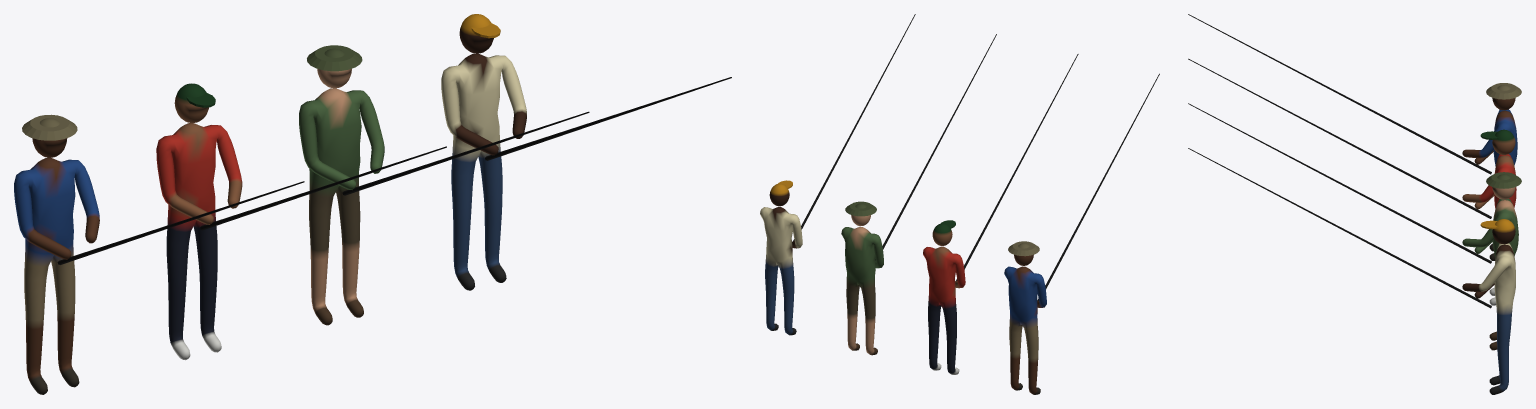
File: personRod.glb
3 views of the same model, side by side, from view 1: azimuth 30°, elevation 25°; view 2: azimuth 150°, elevation 25°; view 3: azimuth 270°, elevation 25° (orthographic). The views are drawn at different scales.
Parts seen in each view (by area): view 1: rod_0, rod_2, rod_1, rod_3; view 2: rod_2, rod_0, rod_3, rod_1; view 3: rod_3, rod_2, rod_0, rod_1.
Part boxes in pixels (x1,y1,x2,y2): rod_0: (14, 114, 304, 394); rod_2: (299, 45, 589, 325); rod_1: (156, 83, 446, 360); rod_3: (441, 14, 731, 290); rod_2: (841, 34, 996, 355); rod_0: (1004, 73, 1159, 394); rod_3: (760, 14, 915, 335); rod_1: (923, 54, 1078, 374); rod_3: (1188, 148, 1515, 394); rod_2: (1188, 103, 1521, 350); rod_0: (1188, 14, 1521, 260); rod_1: (1188, 58, 1516, 305).
Bounding box in the file's own units: 3.5 × 2.56 × 3.16.
